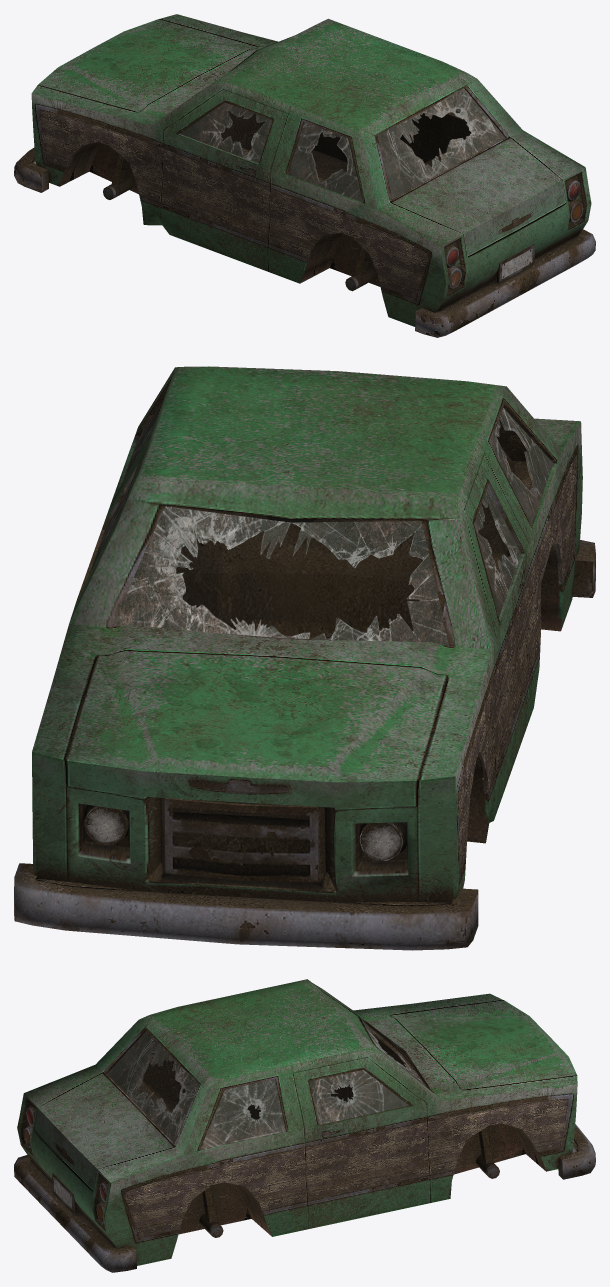
The model's file is CarFinalGreen.fbx.
3 renders of one model, top to bottom at view 1: azimuth 30°, elevation 25°; view 2: azimuth 150°, elevation 25°; view 3: azimuth 270°, elevation 25°, orthographic. The views are drawn at different scales.
Parts seen in each view (by area): view 1: Box002, Plane002; view 2: Box002, Plane002; view 3: Box002, Plane002.
Part boxes in pixels (x1,y1,x2,y2): Box002: [14, 14, 595, 337]; Plane002: [180, 88, 504, 202]; Box002: [14, 366, 595, 950]; Plane002: [89, 402, 553, 645]; Box002: [14, 979, 595, 1272]; Plane002: [107, 1019, 426, 1150].
Size of the model in its own units: 377 by 165 by 515.
